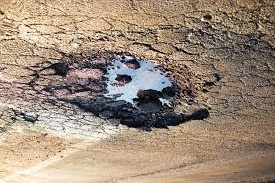pothole: (38, 39, 215, 133), (22, 106, 37, 125)
